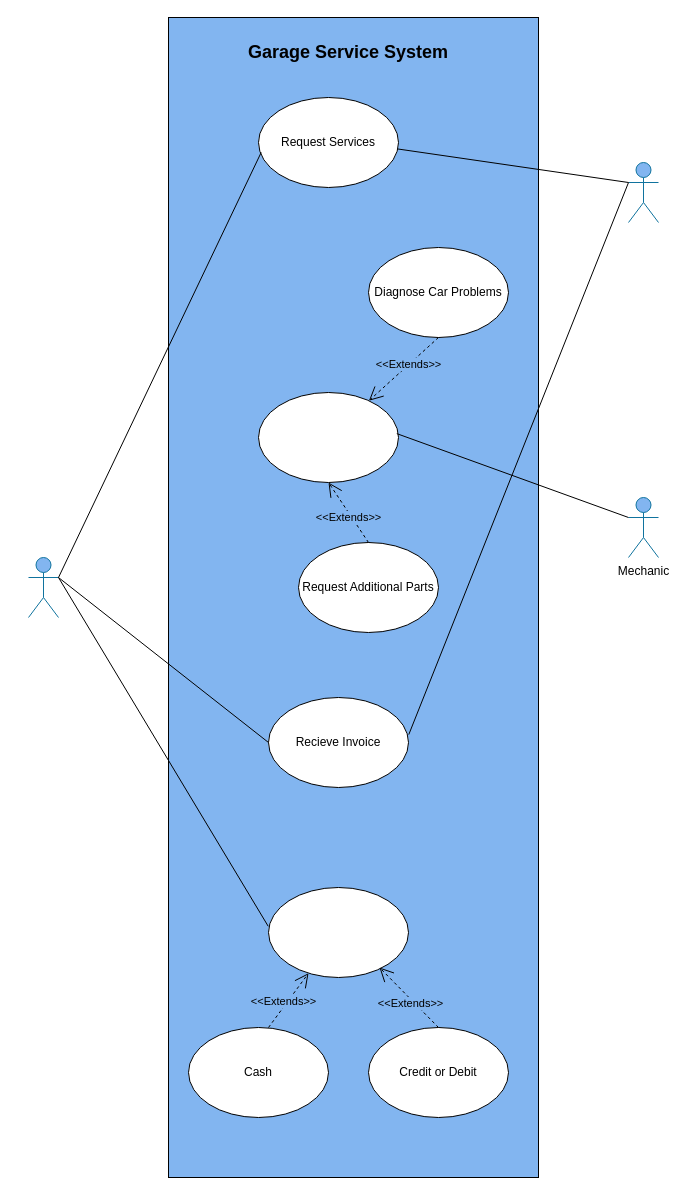
The diagram is 690 pixels wide and 1195 high, and some of its shapes have lost their labels. Here are the shapes that lost their labels. From the top down, the centre of each, then its label:
pixel 643 192: Store Clerk
pixel 328 437: Perform Car Services
pixel 43 587: Customer
pixel 338 932: Pay Bill
